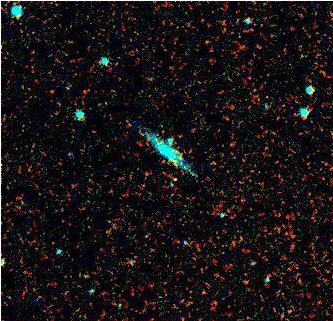star: (165, 161, 195, 191)
